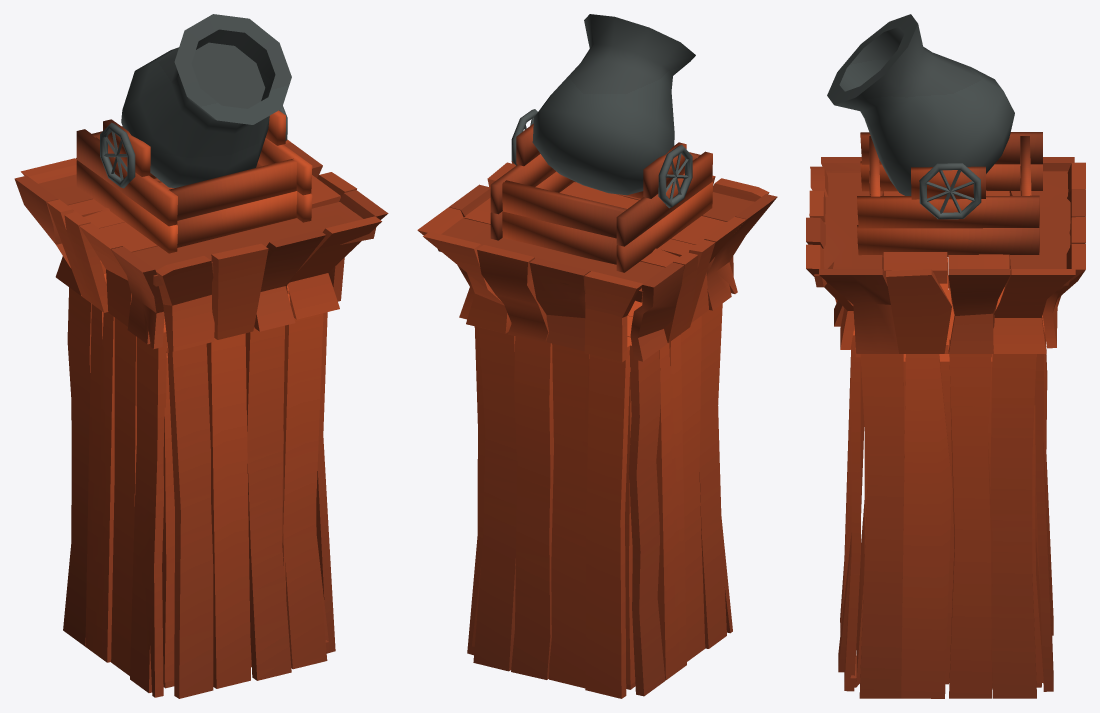
The model's file is m_towerMortar_01.fbx.
3 views of the same model, side by side, from view 1: azimuth 30°, elevation 25°; view 2: azimuth 150°, elevation 25°; view 3: azimuth 270°, elevation 25° (orthographic). The views are drawn at different scales.
Visible parts, largest first — view 1: TowerBase, m_bg_mortar_01, Tower.001; view 2: TowerBase, m_bg_mortar_01, Tower.001; view 3: TowerBase, m_bg_mortar_01, Tower.001.
Part boxes in pixels (x1,y1,x2,y2): TowerBase: [63, 260, 335, 698]; m_bg_mortar_01: [76, 14, 312, 253]; Tower.001: [14, 139, 388, 351]; TowerBase: [467, 300, 732, 698]; m_bg_mortar_01: [490, 14, 712, 272]; Tower.001: [417, 161, 777, 362]; TowerBase: [838, 258, 1053, 698]; m_bg_mortar_01: [827, 14, 1042, 257]; Tower.001: [806, 157, 1085, 353].
Bounding box in the file's own units: 288 × 709 × 285.
